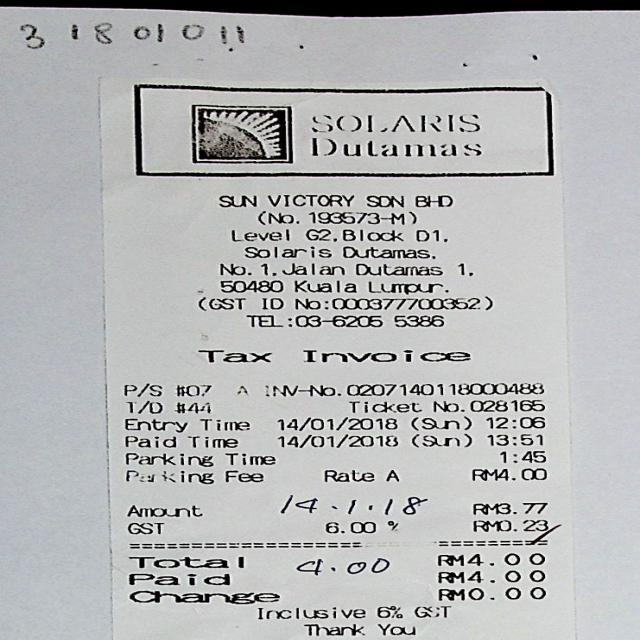text: (310, 136, 480, 157), (311, 113, 478, 130), (294, 296, 492, 310), (345, 382, 543, 395), (128, 590, 277, 604), (301, 349, 467, 361), (276, 433, 396, 447), (275, 416, 394, 430), (255, 606, 364, 619), (128, 556, 244, 568), (432, 399, 543, 411), (306, 211, 412, 223), (125, 572, 227, 584), (341, 245, 433, 258), (124, 469, 212, 482), (125, 452, 212, 465), (264, 194, 352, 206), (287, 315, 382, 326), (353, 263, 440, 275), (365, 280, 446, 292), (472, 518, 545, 531), (471, 468, 545, 480), (280, 262, 343, 276), (124, 417, 186, 431), (198, 349, 270, 361), (264, 385, 341, 396), (244, 246, 328, 256), (409, 416, 469, 430), (125, 505, 201, 516), (471, 502, 545, 513), (410, 432, 468, 446), (347, 400, 420, 411), (342, 229, 403, 242), (230, 228, 288, 241), (218, 279, 280, 291), (292, 279, 354, 291), (484, 415, 542, 427), (322, 468, 372, 481), (302, 623, 361, 634), (438, 569, 483, 583), (197, 296, 244, 309), (486, 433, 541, 444), (324, 520, 374, 532), (392, 314, 441, 326), (198, 418, 247, 430), (224, 452, 273, 464), (498, 450, 544, 462), (435, 552, 481, 564), (436, 588, 482, 600), (122, 435, 172, 446), (186, 435, 236, 446), (364, 194, 404, 207), (256, 210, 296, 223), (122, 382, 159, 396), (216, 194, 255, 207), (243, 314, 280, 327), (123, 400, 160, 413), (412, 194, 450, 206), (414, 606, 452, 618), (125, 522, 162, 534), (174, 383, 209, 395), (375, 623, 413, 634), (303, 228, 336, 240), (172, 401, 208, 412), (218, 263, 250, 275), (224, 470, 262, 480), (414, 230, 445, 242), (376, 605, 402, 618), (259, 297, 282, 308), (528, 585, 546, 599), (528, 569, 546, 582), (503, 569, 520, 581), (504, 587, 519, 600), (503, 552, 517, 565), (259, 263, 274, 275), (457, 262, 470, 275), (528, 552, 542, 564), (386, 468, 398, 480), (236, 384, 247, 393)
